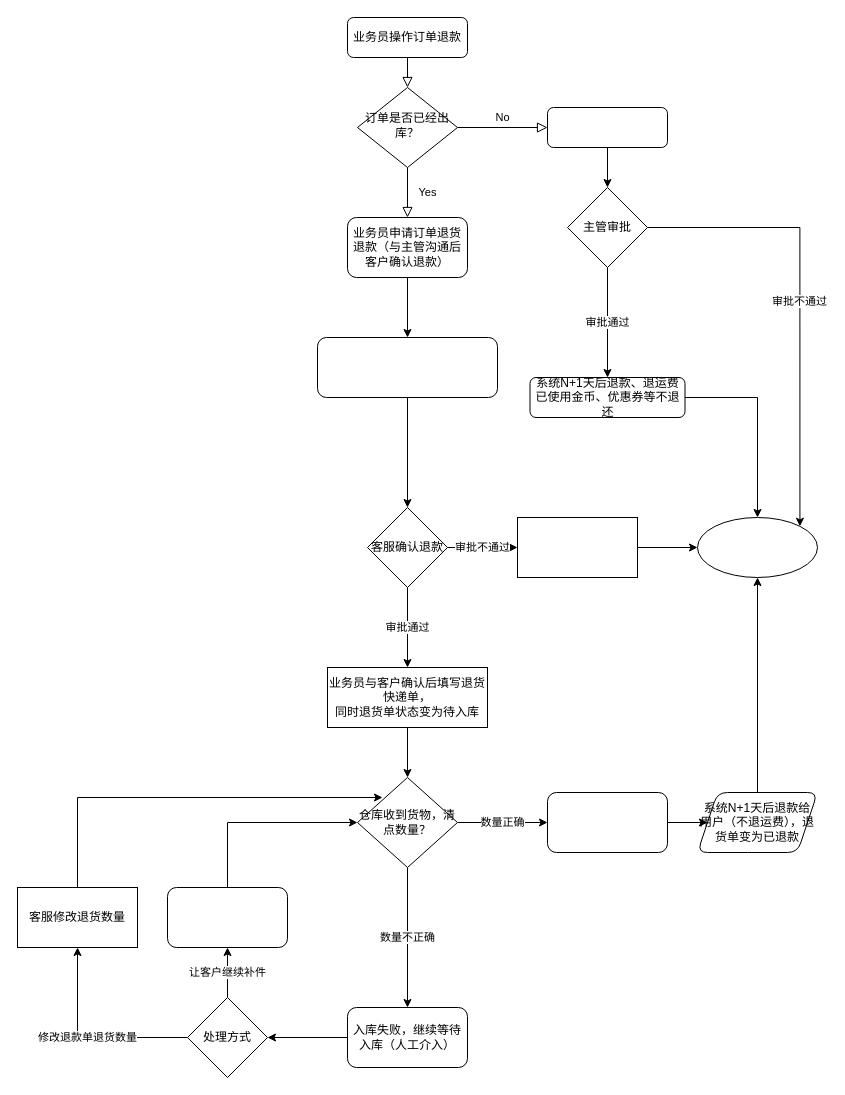
Image size: 845x1095. Some labels were removed from this diagram. Here are the shapes that lost their labels. From the top down, the centre of each, then its label:
the point at 607,127: 业务员点击取消订单按钮
the point at 407,367: 部长选择需要退货退款的产品，并生成退货单 销售订单状态变为退款中：
the point at 577,547: 退货单取消，订单状态改回已出库
the point at 757,547: 流程结束
the point at 607,822: 主管审批退货单进行退款，退货单变为待退款
the point at 227,917: 业务员让客户补货后，继续添加退货的快递单
